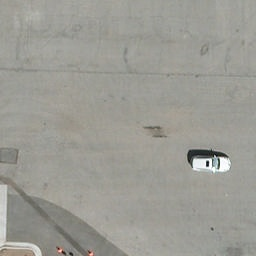car: (190, 156, 232, 173)
